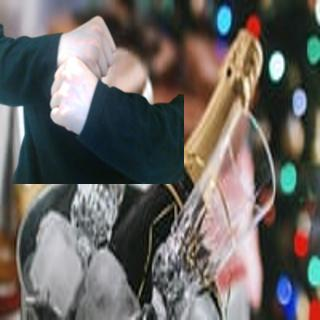CAREFUL: (37, 7, 121, 137)
